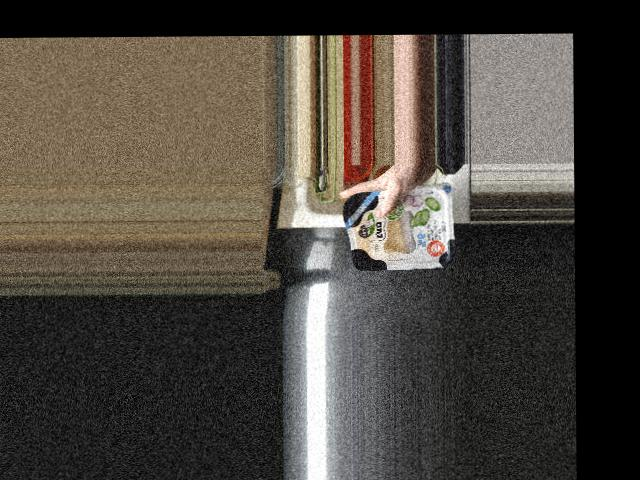cheese: (342, 183, 451, 270)
